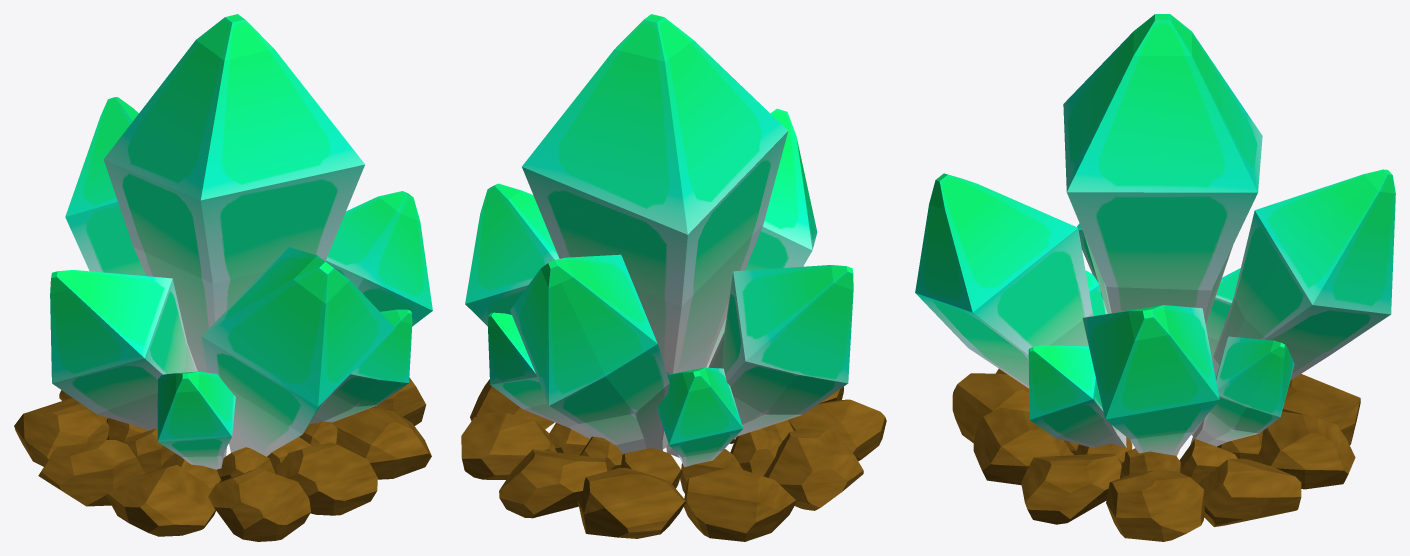
Rendered from cristal_verde.obj.
The picture shows the model from 3 angles, left to right: view 1: azimuth 30°, elevation 25°; view 2: azimuth 150°, elevation 25°; view 3: azimuth 270°, elevation 25°; orthographic projection.
Visible parts, largest first — view 1: Object_14, Object_16, Object_20; view 2: Object_14, Object_16, Object_20; view 3: Object_14, Object_16, Object_20.
Part boxes in pixels (x1,y1,x2,y2): Object_14: (50,14,432,469); Object_16: (14,377,431,541); Object_20: (106,418,337,490); Object_14: (465,14,853,467); Object_16: (461,379,886,541); Object_20: (549,420,793,493); Object_14: (915,14,1395,456); Object_16: (952,369,1360,541); Object_20: (1064,431,1262,483).
Bounding box in the file's own units: 2.87 × 3.32 × 3.22.
